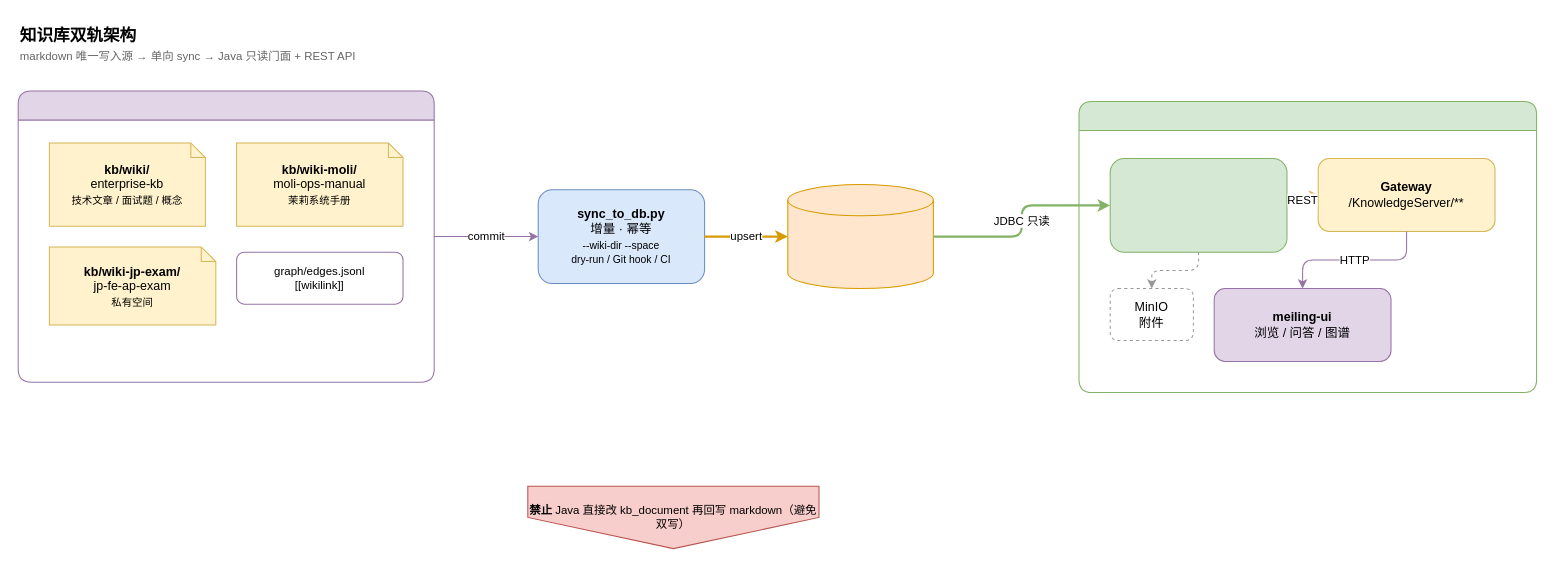
Some shapes in this 1555 by 567 pixel diagram are drawn without their labels. The box of each missing label's shape, as (x1, y1, x2, y2) in pixels:
knowledge-server :8090 /kb/index · /kb/ask /kb/graph · ACL: (1109, 158, 1287, 252)
MySQL moli kb_document kb_relation kb_space … utf8mb4: (787, 184, 933, 289)
写入轨（Agent / 开发）: (17, 90, 434, 382)
读取轨（运行时）: (1078, 100, 1537, 393)
